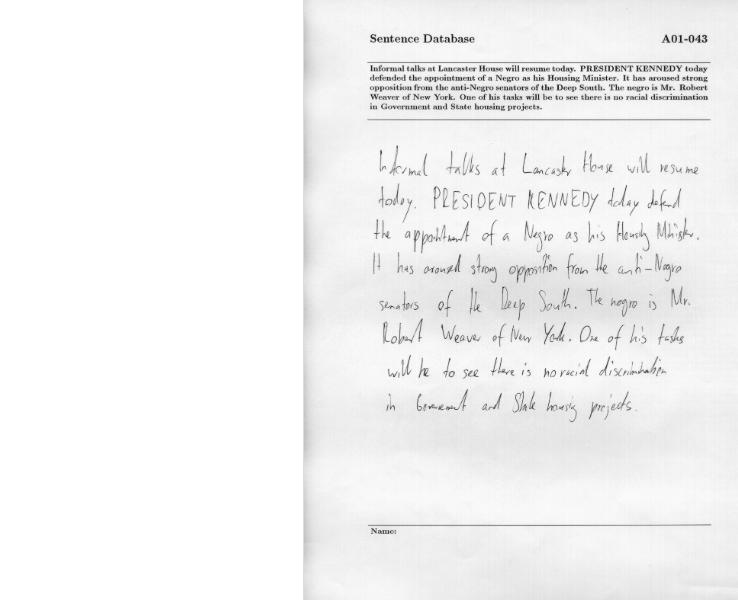text: (377, 180, 685, 223), (371, 215, 702, 255), (376, 285, 691, 323), (375, 142, 705, 178), (369, 250, 685, 287), (376, 322, 687, 353), (383, 388, 638, 425), (385, 354, 670, 382), (369, 63, 710, 75), (368, 83, 707, 95), (368, 92, 710, 103), (367, 74, 710, 84), (368, 101, 544, 113), (367, 33, 476, 46), (660, 32, 708, 46), (368, 525, 398, 536)
